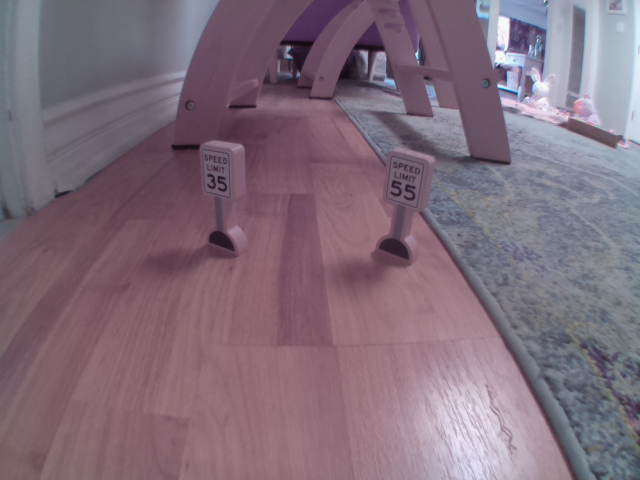Speed Limit 35: (200, 147, 233, 198)
Speed Limit 55: (382, 148, 425, 209)
